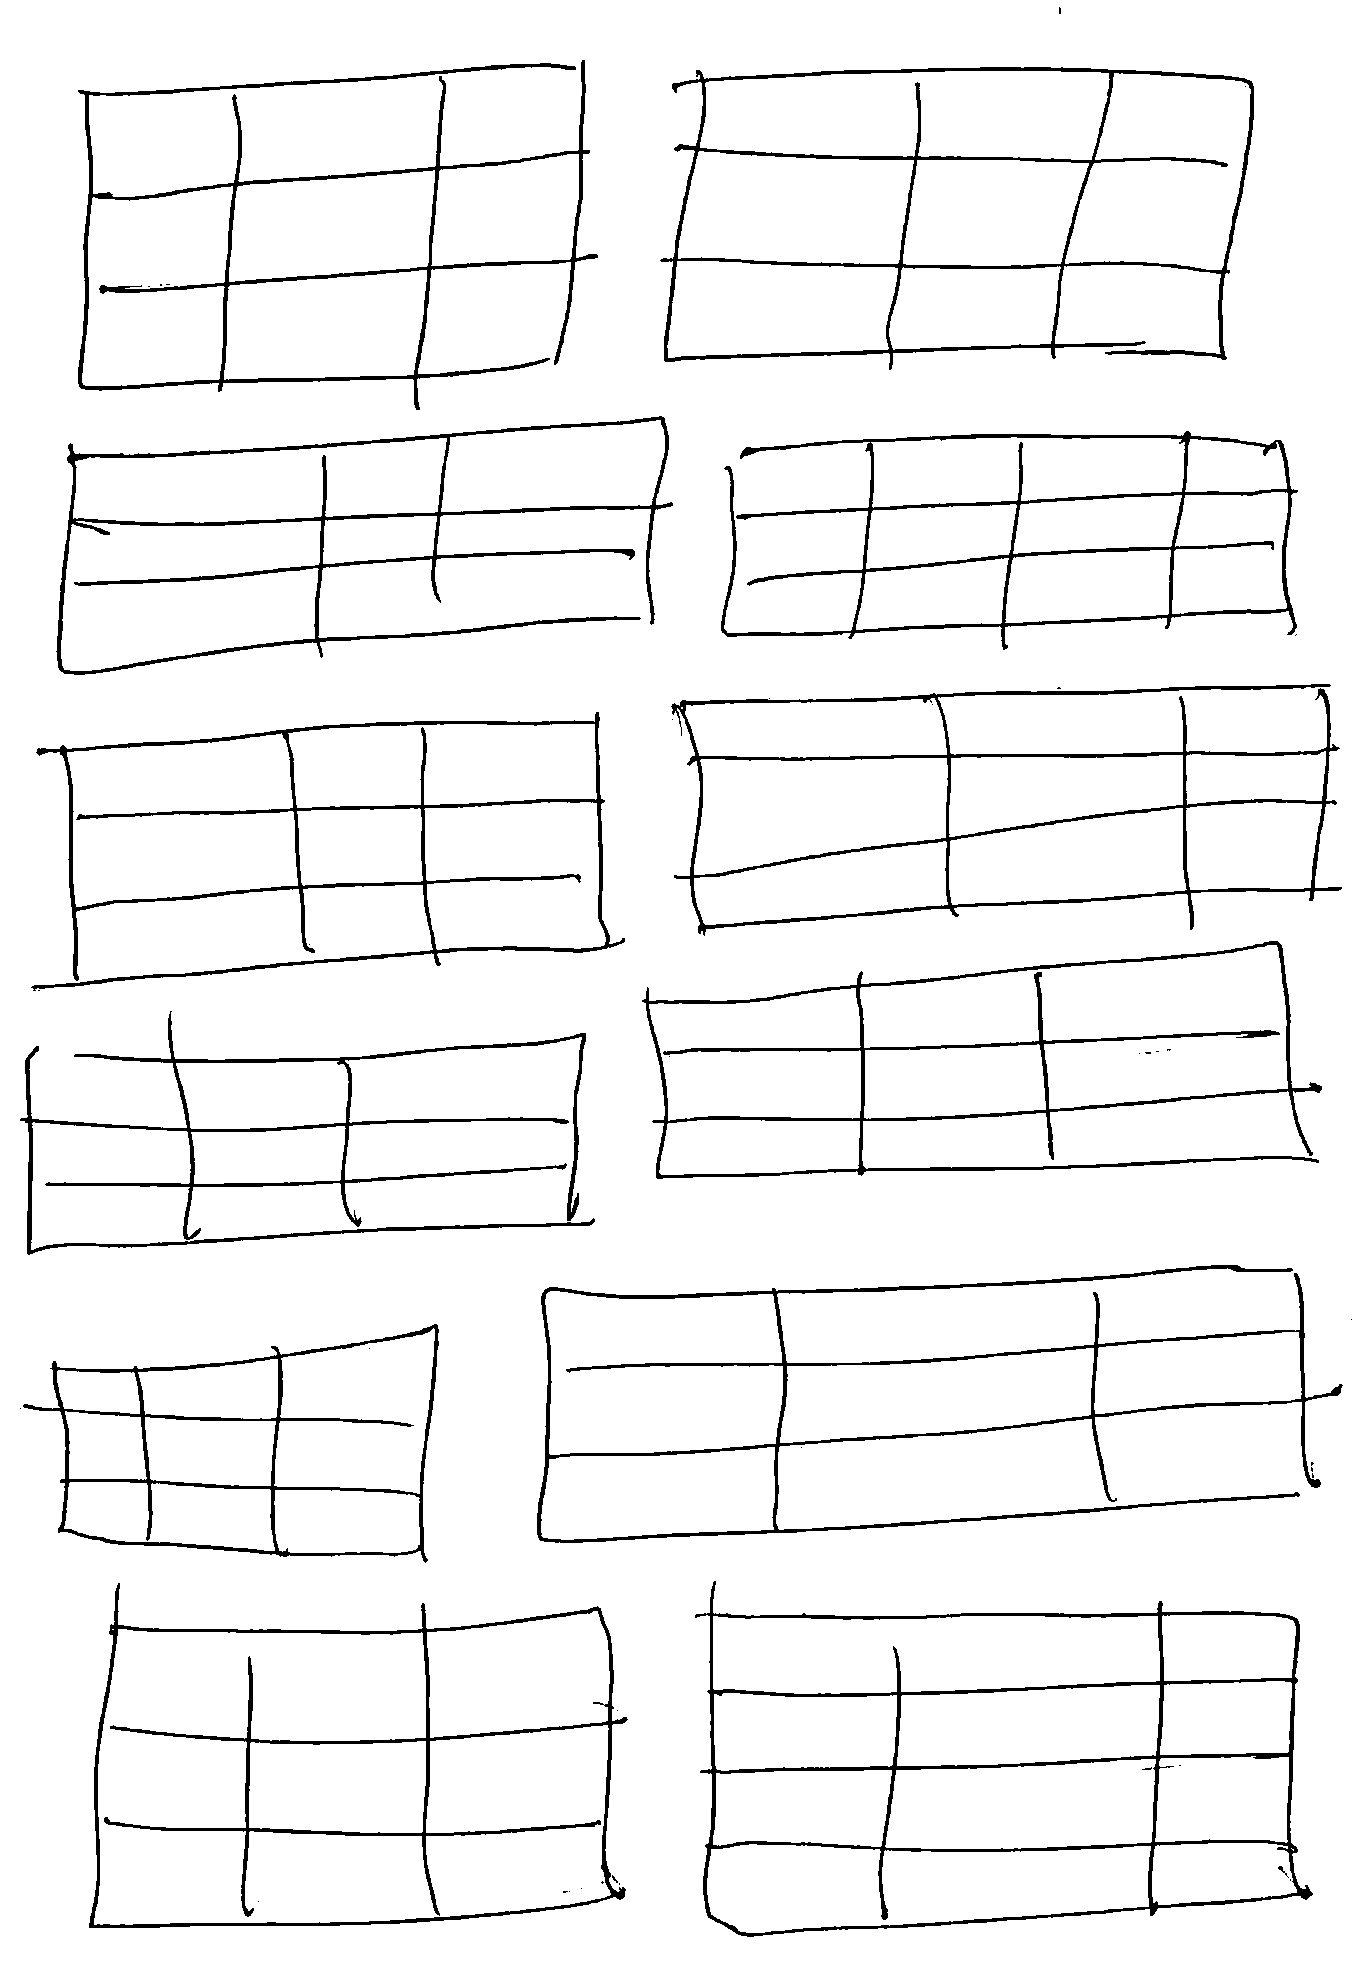Table: (537, 1265, 1342, 1542), (694, 1582, 1313, 1938), (89, 1585, 628, 1929), (651, 66, 1254, 370), (78, 60, 598, 410), (32, 712, 626, 1001), (669, 684, 1342, 936), (643, 942, 1322, 1179), (57, 417, 673, 675), (20, 1010, 595, 1256), (721, 432, 1298, 650), (24, 1325, 438, 1560)
